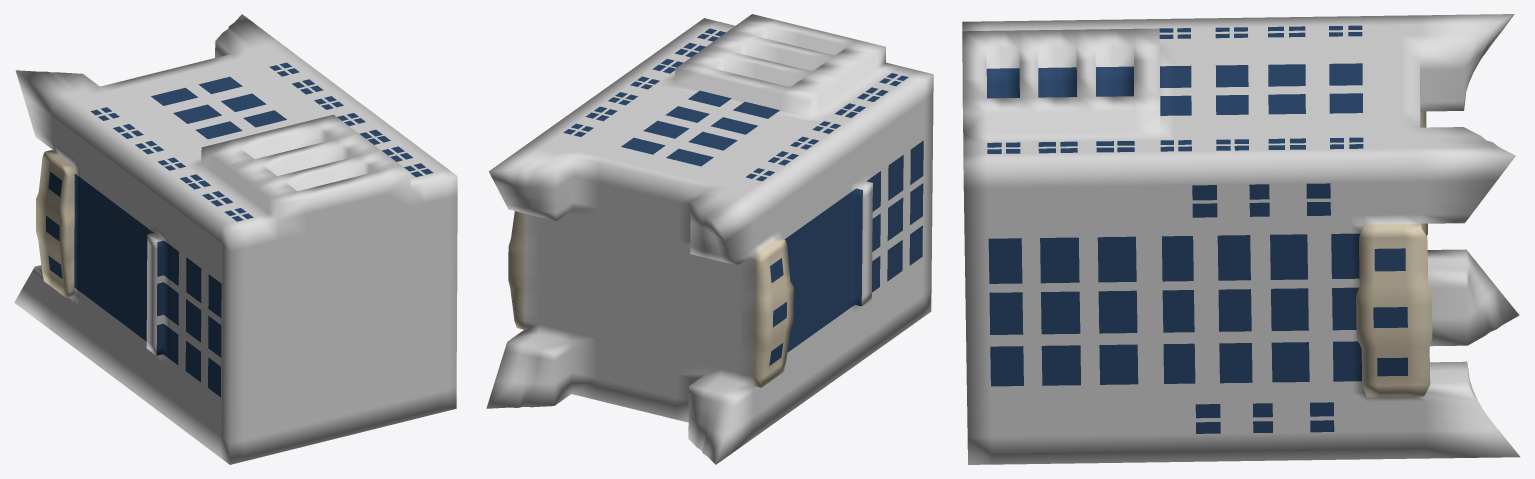
File: collcam.fbx
3 views of the same model, side by side, from view 1: azimuth 30°, elevation 25°; view 2: azimuth 150°, elevation 25°; view 3: azimuth 270°, elevation 25° (orthographic). The views are drawn at different scales.
Parts seen in each view (by area): view 1: Plane; view 2: Plane; view 3: Plane.
Part boxes in pixels (<box>): Plane: <box>14,14,457,464</box>; Plane: <box>486,14,933,464</box>; Plane: <box>962,14,1520,464</box>.
Bounding box in the file's own units: 5.97 × 5.69 × 8.89.
